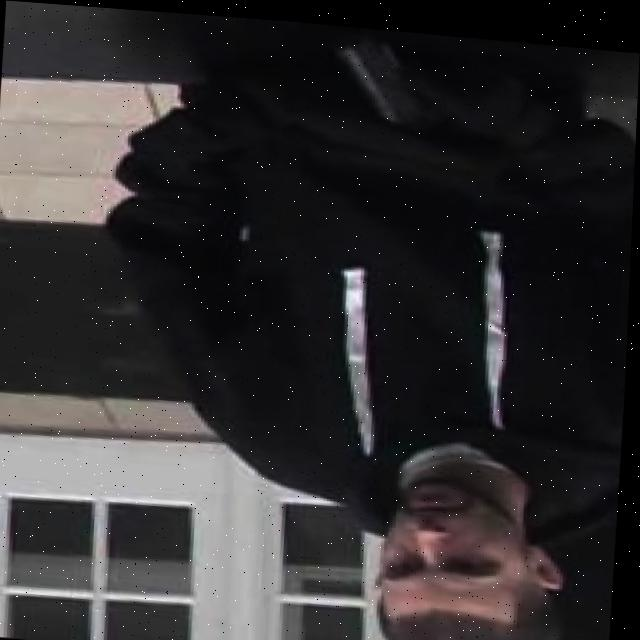pistol: (333, 27, 435, 123)
